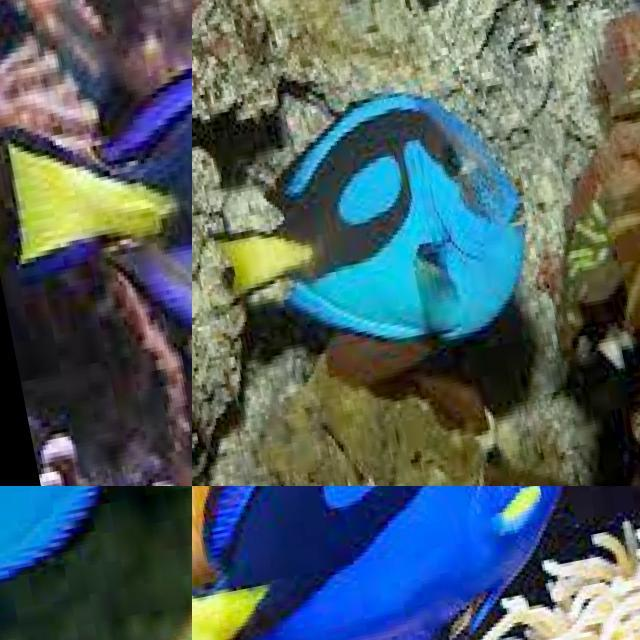BlueTang: (222, 96, 523, 346), (192, 485, 564, 640), (11, 60, 195, 325), (0, 486, 94, 588)
